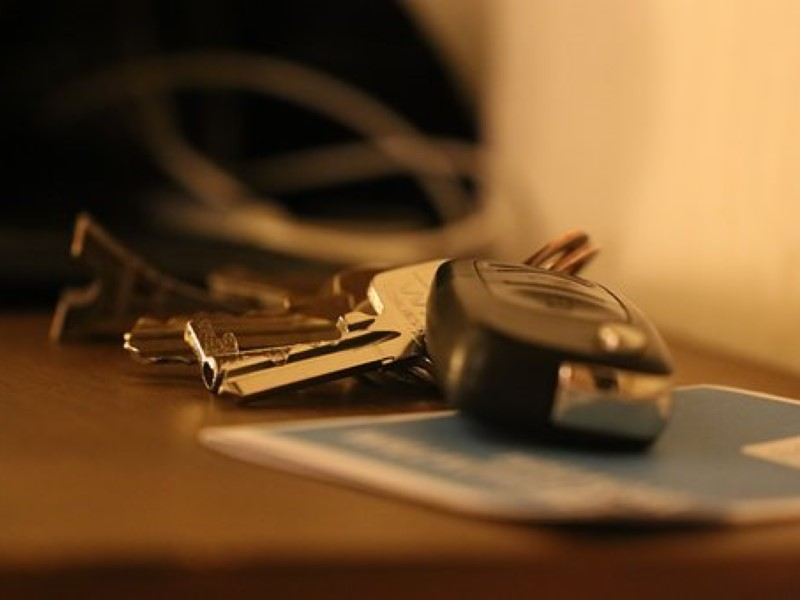carkey: (417, 254, 682, 465)
key: (117, 251, 449, 405)
